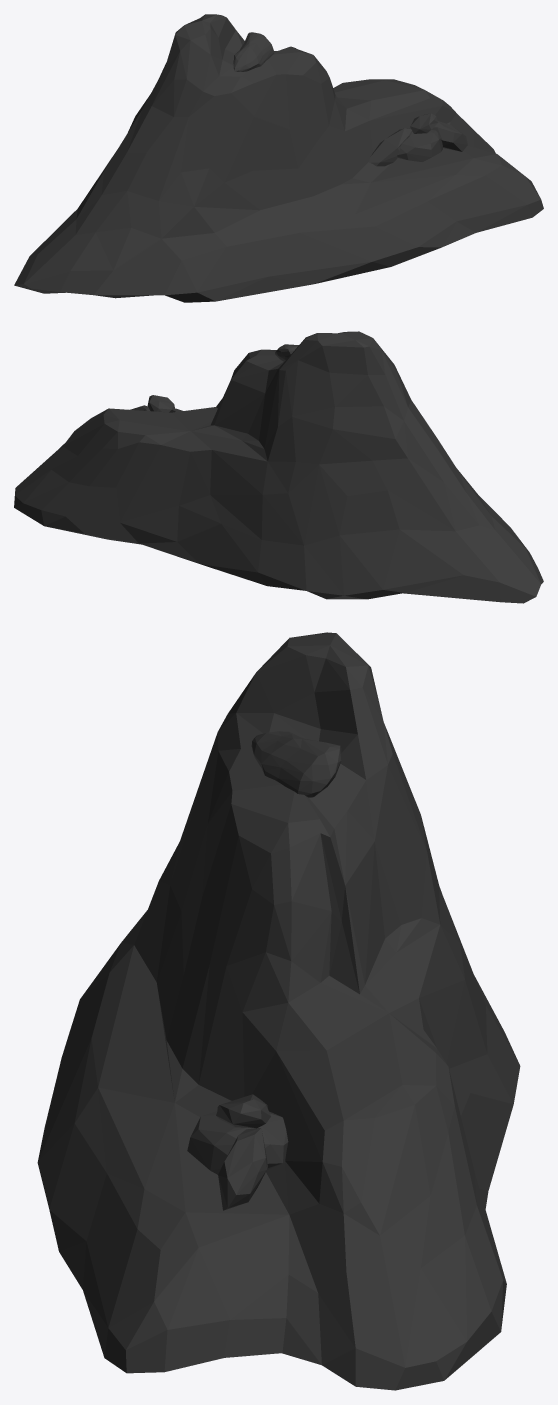
The model's file is Rochedo2.fbx.
3 views of the same model, one above another, from view 1: azimuth 30°, elevation 25°; view 2: azimuth 150°, elevation 25°; view 3: azimuth 270°, elevation 25° (orthographic). The views are drawn at different scales.
Visible parts, largest first — view 1: Rochedo2; view 2: Rochedo2; view 3: Rochedo2.
Boxes of the visible parts, bbox=[...] form: Rochedo2: bbox=[14, 14, 543, 302]; Rochedo2: bbox=[14, 331, 543, 603]; Rochedo2: bbox=[37, 632, 520, 1390].
Bounding box in the file's own units: 3136 × 1402 × 1321.
